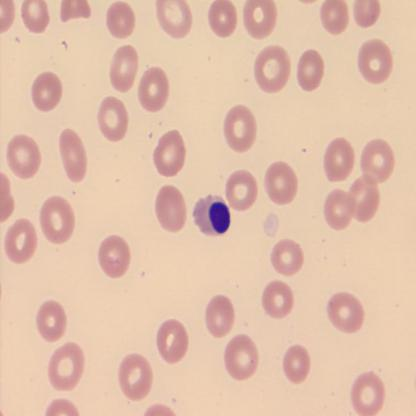NRC: (192, 191, 233, 240)
